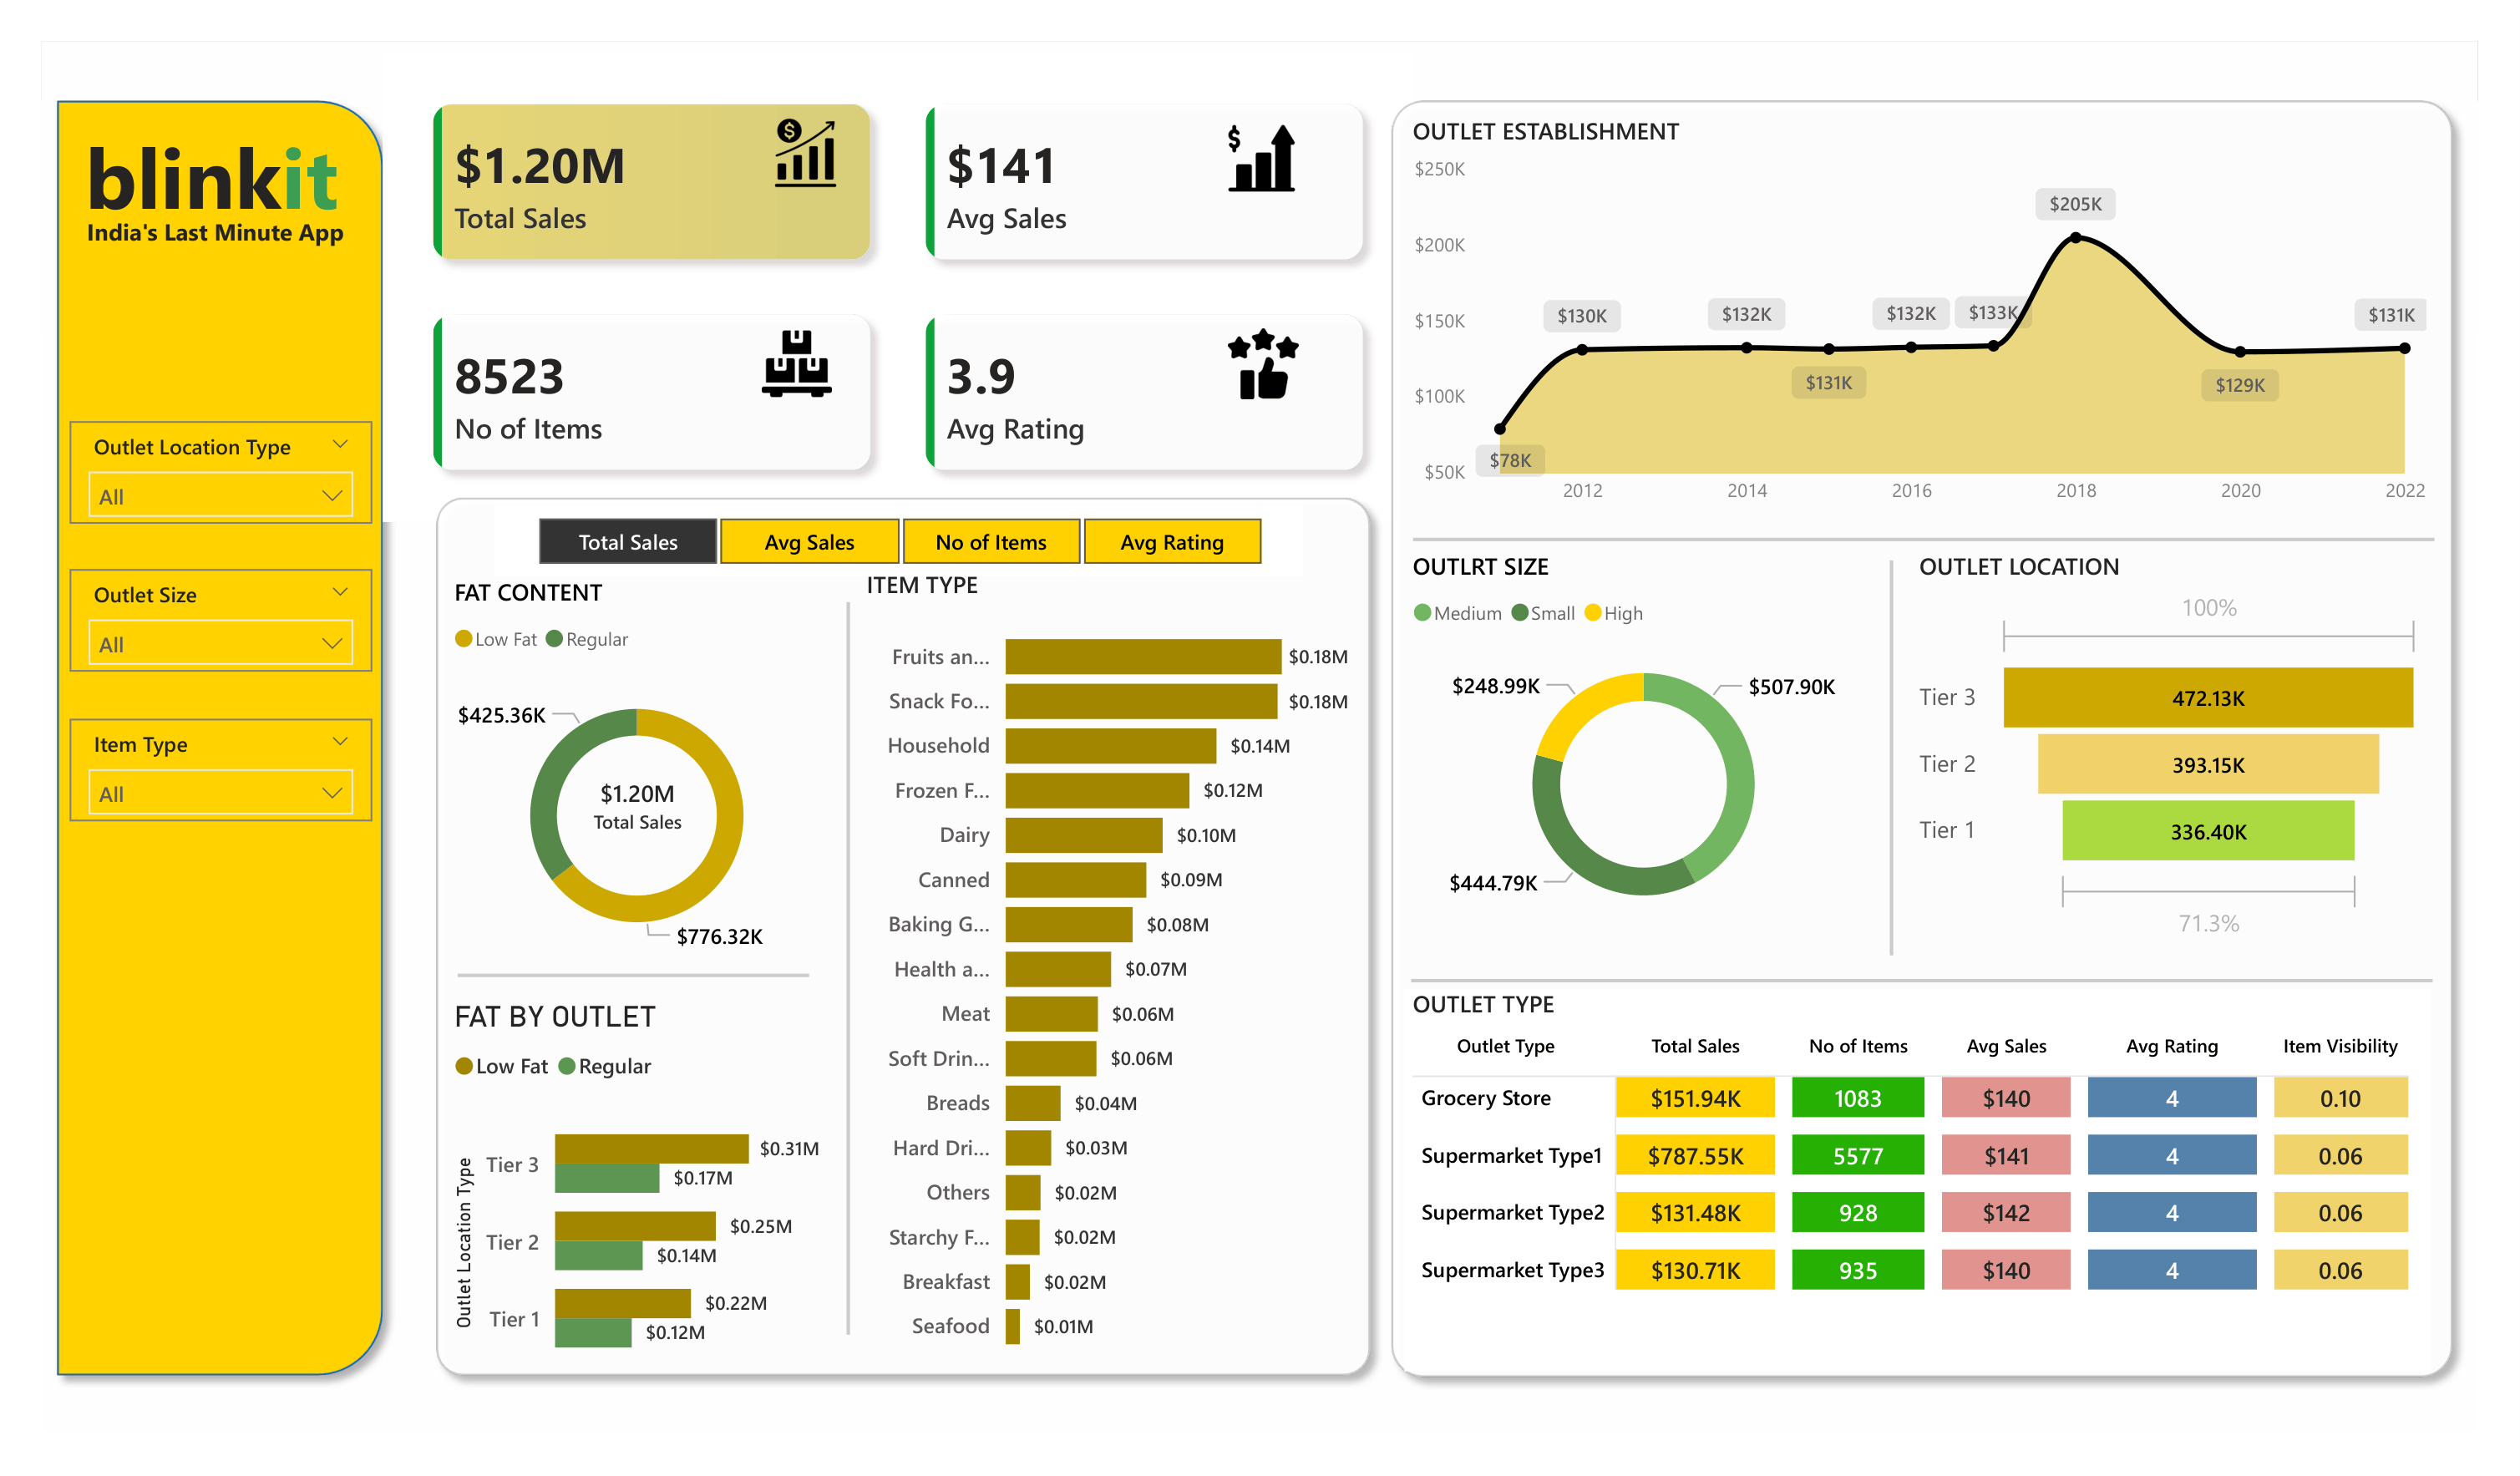

The page's visual inventory and layout, read from the dashboard file:
{"tool":"powerbi","page":{"name":"Page 1","canvas":[1400,800],"ordinal":0},"visuals":[{"type":"shape","box":[0,25.5,205.1,749.3],"z":0},{"type":"textbox","box":[20.1,38.9,164.9,79.1],"z":1000},{"type":"textbox","box":[21.4,95.2,163.5,45.6],"z":2000},{"type":"cardVisual","fields":{"Data":["BlinkIT Grocery Data.Total Sales","BlinkIT Grocery Data.Avg Sales","BlinkIT Grocery Data.No of Items","BlinkIT Grocery Data.Avg Rating"]},"box":[195.7,6.7,592.5,269.4],"z":3000},{"type":"image","box":[402.1,44.2,72.4,40.2],"z":4000},{"type":"image","box":[668.9,46.9,63,40.2],"z":5000},{"type":"image","box":[670.2,164.9,63,40.2],"z":6000},{"type":"image","box":[402.1,164.9,63,40.2],"z":7000},{"type":"shape","box":[218.5,253.4,553.6,521.5],"z":8000},{"type":"donutChart","title":"FAT CONTENT","fields":{"Y":["BlinkIT Grocery Data.Total Sales"],"Category":["BlinkIT Grocery Data.Item Fat Content"]},"box":[231.9,307,219.8,230.6],"z":9000},{"type":"slicer","fields":{"Values":["Metrics.Metrics"]},"box":[260.1,266.8,465.1,40.2],"z":10000},{"type":"cardVisual","fields":{"Data":["BlinkIT Grocery Data.Total Sales"]},"box":[281.5,400.8,122,75.1],"z":11000},{"type":"clusteredBarChart","title":"FAT BY OUTLET","fields":{"Y":["BlinkIT Grocery Data.Total Sales"],"Category":["BlinkIT Grocery Data.Outlet Location Type"],"Series":["BlinkIT Grocery Data.Item Fat Content"]},"box":[231.9,549.6,219.8,225.2],"z":12000},{"type":"shape","box":[238.6,529.5,202.4,14.7],"z":13000},{"type":"shape","box":[451.7,321.7,22.8,420.9],"z":14000},{"type":"barChart","title":"ITEM TYPE","fields":{"Y":["BlinkIT Grocery Data.Total Sales"],"Category":["BlinkIT Grocery Data.Item Type"]},"box":[469.2,303,286.9,461.1],"z":15000},{"type":"shape","box":[766.8,25.5,627.3,750.7],"z":16000},{"type":"lineChart","title":"OUTLET ESTABLISHMENT","fields":{"Category":["BlinkIT Grocery Data.Outlet Establishment Year"],"Y":["BlinkIT Grocery Data.Total Sales"]},"box":[782.8,41.6,592.5,234.6],"z":17000},{"type":"shape","box":[788.2,276.1,587.1,20.1],"z":18000},{"type":"donutChart","title":"OUTLRT SIZE","fields":{"Y":["BlinkIT Grocery Data.Total Sales"],"Category":["BlinkIT Grocery Data.Outlet Size"]},"box":[782.8,292.2,274.8,225.2],"z":19000},{"type":"funnel","title":"OUTLET LOCATION","fields":{"Category":["BlinkIT Grocery Data.Outlet Location Type"],"Y":["Sum(BlinkIT Grocery Data.Sales)"]},"box":[1073.7,292.2,298.9,229.2],"z":20000},{"type":"shape","box":[1052.3,297.6,21.4,227.9],"z":21000},{"type":"shape","box":[786.9,529.5,587.1,20.1],"z":22000},{"type":"pivotTable","title":"OUTLET TYPE","fields":{"Rows":["BlinkIT Grocery Data.Outlet Type"],"Values":["BlinkIT Grocery Data.Total Sales","BlinkIT Grocery Data.No of Items","BlinkIT Grocery Data.Avg Sales","BlinkIT Grocery Data.Avg Rating","Avg(BlinkIT Grocery Data.Item Visibility)"]},"box":[782.8,544.2,589.8,219.8],"z":23000},{"type":"slicer","fields":{"Values":["BlinkIT Grocery Data.Outlet Location Type"]},"box":[16.1,218.5,174.3,59],"z":24000},{"type":"slicer","fields":{"Values":["BlinkIT Grocery Data.Outlet Size"]},"box":[16.1,303,174.3,59],"z":25000},{"type":"slicer","fields":{"Values":["BlinkIT Grocery Data.Item Type"]},"box":[16.1,388.7,174.3,59],"z":26000}]}

Visuals, with their boxes on the page's 1400x800 design canvas (x1, y1, x2, y2). These are canvas units, not pixel positions in the 2520x1476 screenshot, which may show the page scaled, cropped or inside an application window:
shape: rect(0, 26, 205, 775)
textbox: rect(20, 39, 185, 118)
textbox: rect(21, 95, 185, 141)
cardVisual - BlinkIT Grocery Data.Total Sales x BlinkIT Grocery Data.Avg Sales: rect(196, 7, 788, 276)
image: rect(402, 44, 474, 84)
image: rect(669, 47, 732, 87)
image: rect(670, 165, 733, 205)
image: rect(402, 165, 465, 205)
shape: rect(218, 253, 772, 775)
"FAT CONTENT" donutChart: rect(232, 307, 452, 538)
slicer - Metrics.Metrics: rect(260, 267, 725, 307)
cardVisual - BlinkIT Grocery Data.Total Sales: rect(282, 401, 404, 476)
"FAT BY OUTLET" clusteredBarChart: rect(232, 550, 452, 775)
shape: rect(239, 530, 441, 544)
shape: rect(452, 322, 474, 743)
"ITEM TYPE" barChart: rect(469, 303, 756, 764)
shape: rect(767, 26, 1394, 776)
"OUTLET ESTABLISHMENT" lineChart: rect(783, 42, 1375, 276)
shape: rect(788, 276, 1375, 296)
"OUTLRT SIZE" donutChart: rect(783, 292, 1058, 517)
"OUTLET LOCATION" funnel: rect(1074, 292, 1373, 521)
shape: rect(1052, 298, 1074, 526)
shape: rect(787, 530, 1374, 550)
"OUTLET TYPE" pivotTable: rect(783, 544, 1373, 764)
slicer - BlinkIT Grocery Data.Outlet Location Type: rect(16, 218, 190, 278)
slicer - BlinkIT Grocery Data.Outlet Size: rect(16, 303, 190, 362)
slicer - BlinkIT Grocery Data.Item Type: rect(16, 389, 190, 448)
